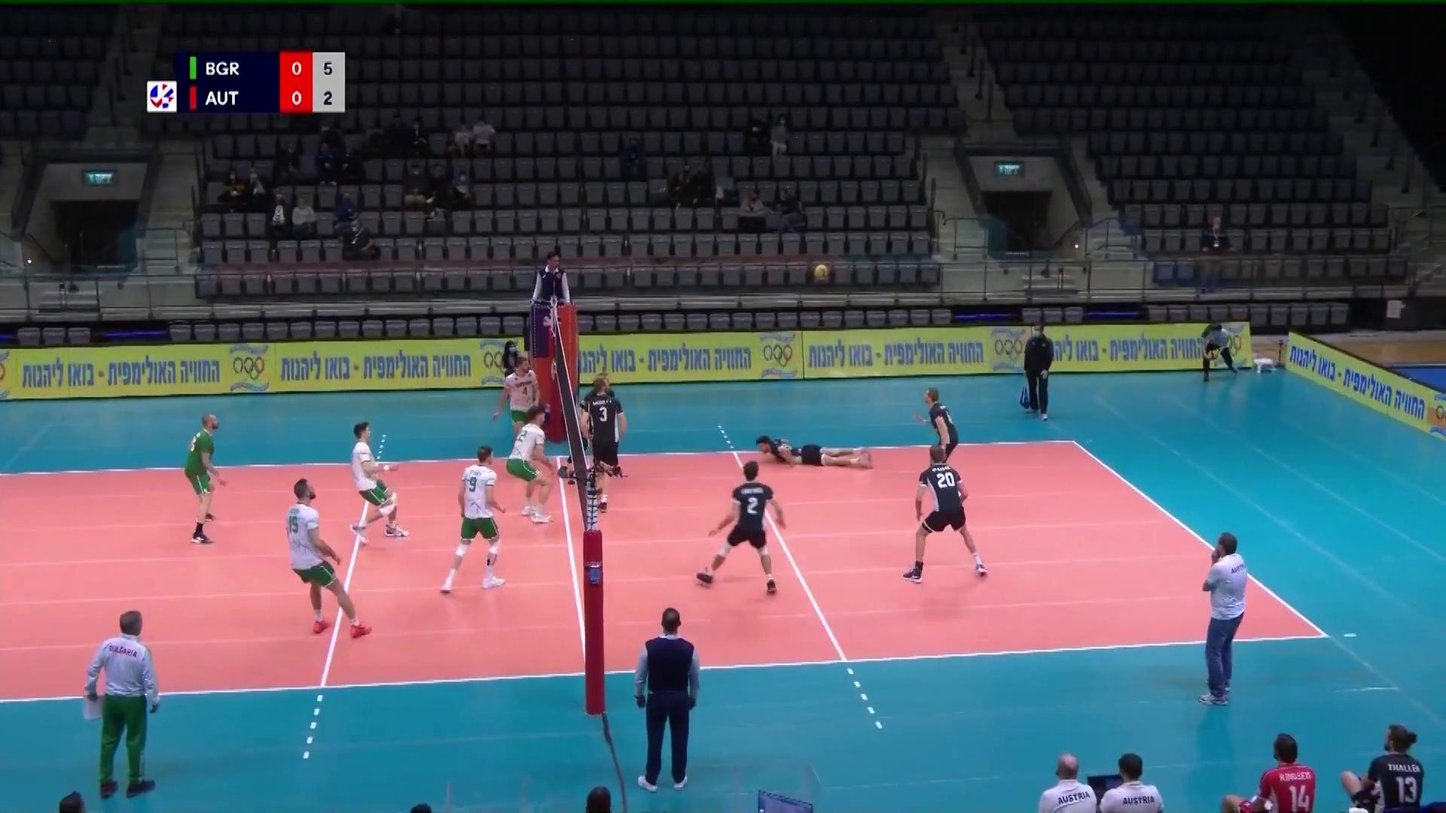ball: (815, 265, 830, 282)
